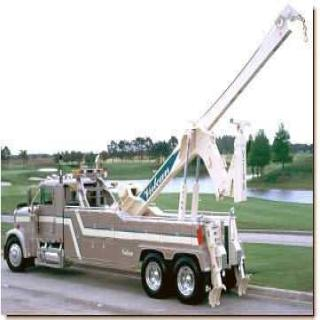Towing_truck: (3, 165, 251, 305)
